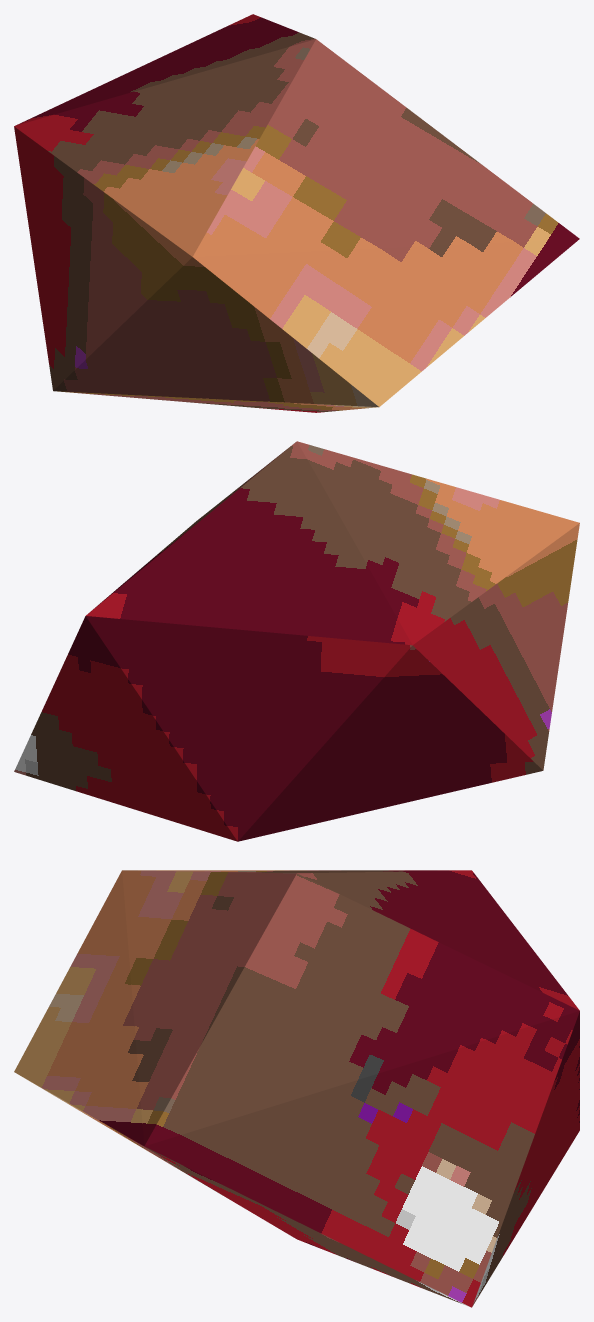
Rendered from Meatchunk.fbx.
3 renders of one model, top to bottom at view 1: azimuth 30°, elevation 25°; view 2: azimuth 150°, elevation 25°; view 3: azimuth 270°, elevation 25°, orthographic. The views are drawn at different scales.
Parts seen in each view (by area): view 1: Icosphere; view 2: Icosphere; view 3: Icosphere.
Part boxes in pixels (left/top/right/bottom): Icosphere: left=14, top=14, right=579, bottom=412; Icosphere: left=14, top=441, right=579, bottom=841; Icosphere: left=14, top=870, right=579, bottom=1307.
Size of the model in its own units: 162 by 121 by 170.
